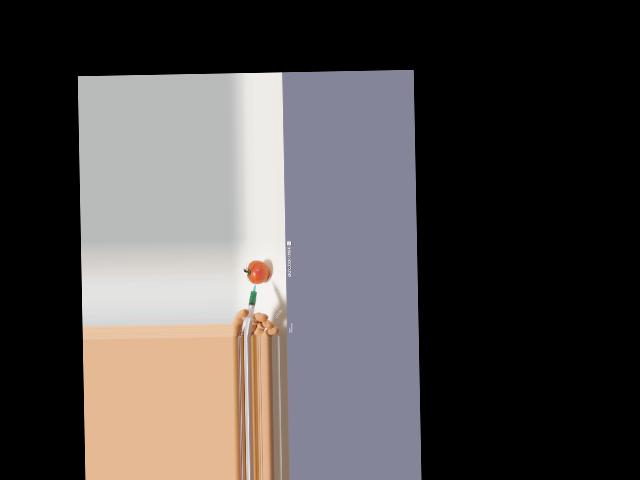tomato: (248, 260, 269, 284)
